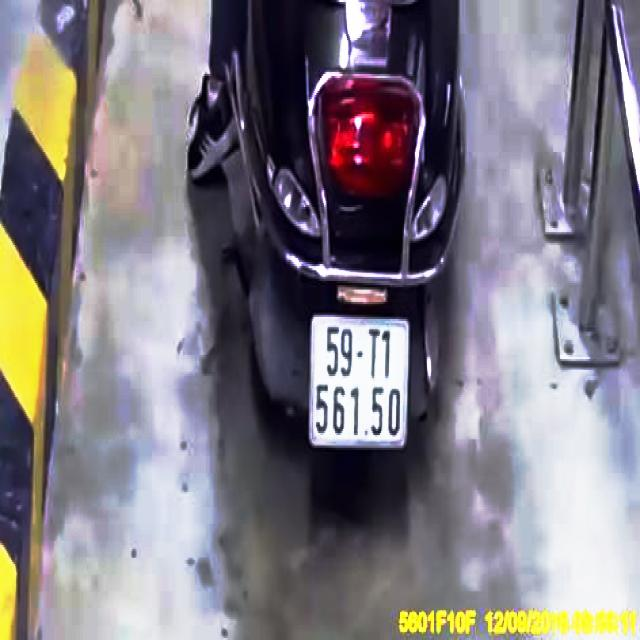license_plate: (310, 314, 412, 450)
